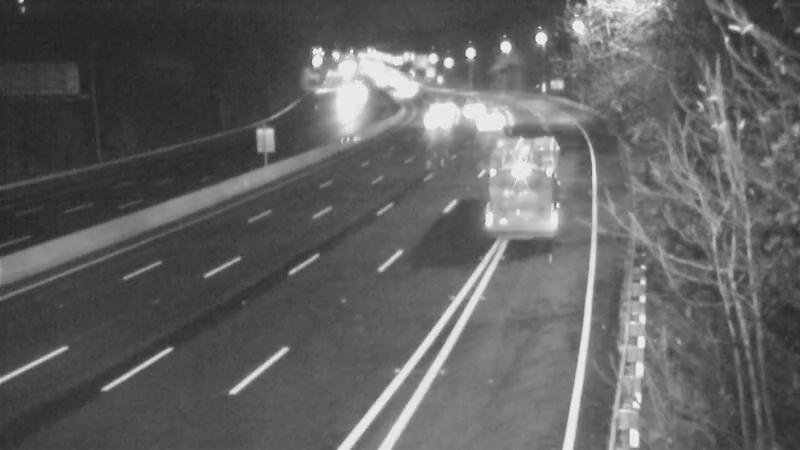vehicle: (478, 154, 558, 234), (373, 67, 423, 117), (445, 81, 495, 131), (414, 81, 464, 131), (411, 97, 461, 147), (461, 96, 511, 146), (321, 80, 371, 130)
